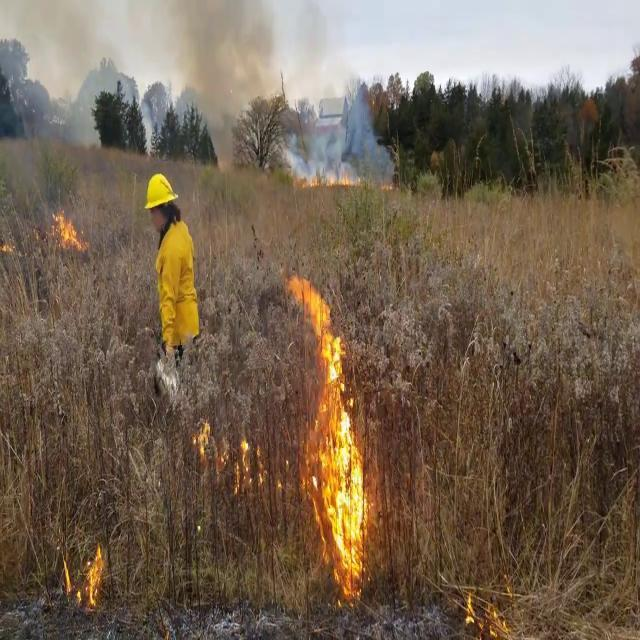Fire: (294, 267, 370, 594), (63, 534, 107, 608), (231, 426, 265, 497), (49, 202, 82, 252), (192, 409, 214, 469)
Smoke: (175, 0, 280, 161), (292, 74, 394, 186), (42, 0, 108, 150)
